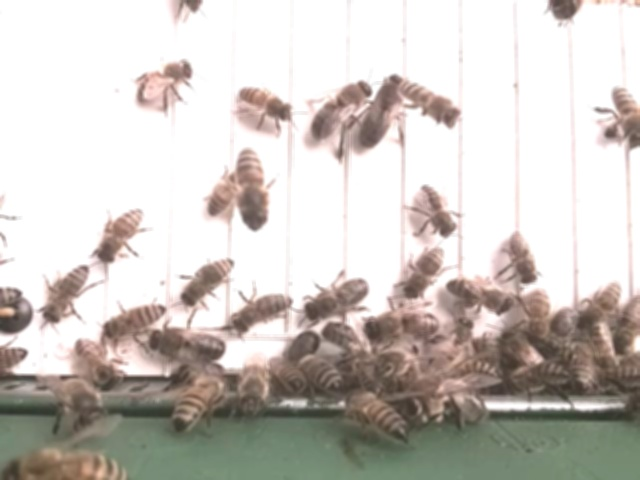Drone: (312, 75, 374, 140), (360, 71, 408, 148), (302, 275, 372, 322), (148, 326, 229, 363), (366, 305, 440, 343)
Worker: (345, 388, 414, 439), (41, 263, 92, 324), (136, 56, 196, 107), (398, 76, 460, 125), (179, 255, 237, 306), (96, 204, 145, 264), (222, 288, 294, 328), (170, 372, 218, 430), (447, 274, 514, 315), (237, 143, 268, 228), (579, 276, 625, 329), (404, 243, 446, 300), (418, 182, 459, 239), (100, 302, 166, 337), (74, 336, 120, 385), (237, 85, 294, 123), (610, 82, 640, 144), (207, 166, 242, 219), (509, 228, 542, 284), (528, 285, 554, 342)
